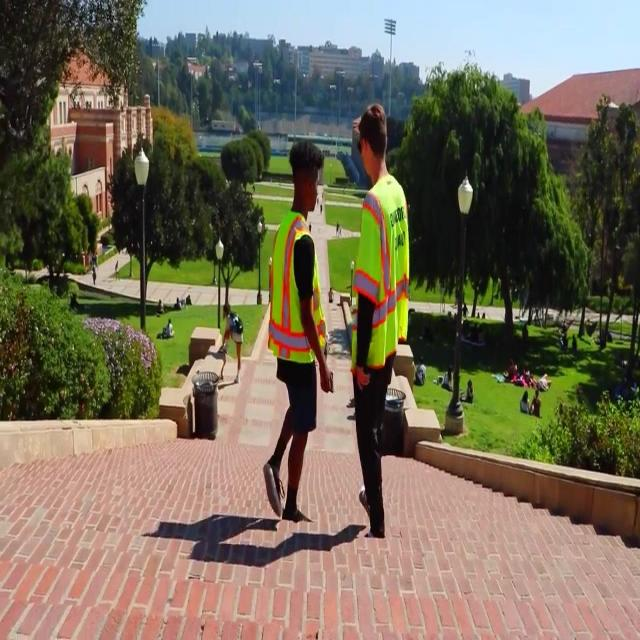Reflective-Jacket: (348, 169, 418, 390), (262, 207, 334, 381)
